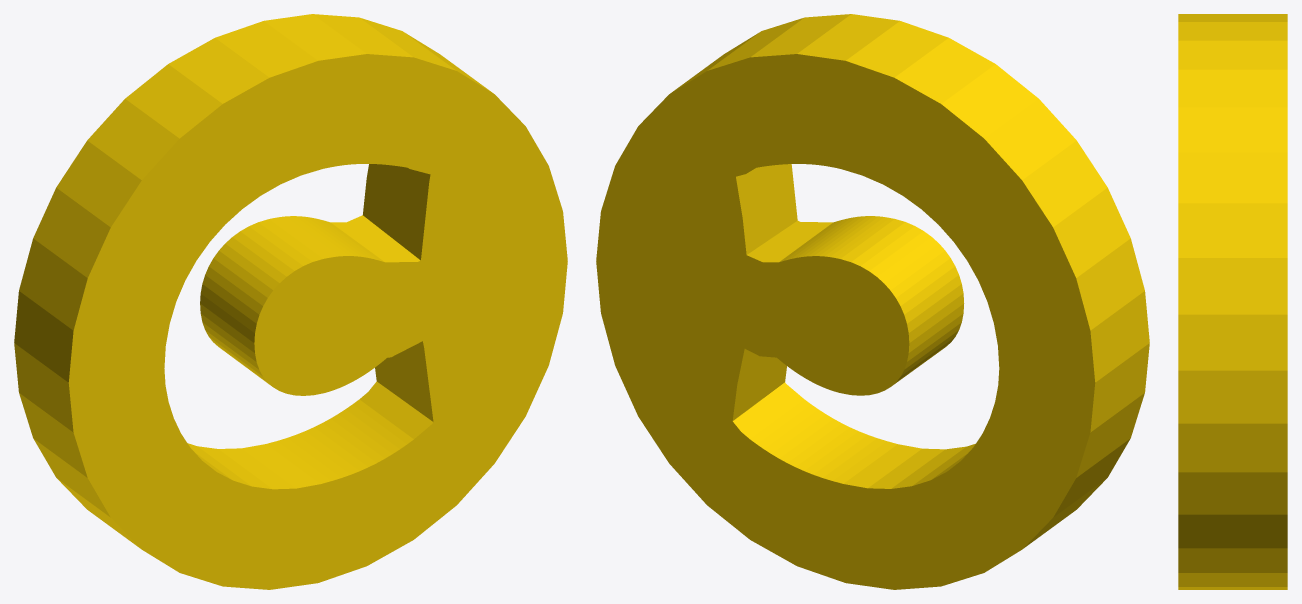
Rendered from coin.glb.
3 views of the same model, side by side, from view 1: azimuth 30°, elevation 25°; view 2: azimuth 150°, elevation 25°; view 3: azimuth 270°, elevation 25° (orthographic).
Parts seen in each view (by area): view 1: Cylinder; view 2: Cylinder; view 3: Cylinder.
Boxes of the visible parts, x1=… form: Cylinder: x1=14, y1=14, x2=567, y2=589; Cylinder: x1=596, y1=14, x2=1149, y2=589; Cylinder: x1=1178, y1=14, x2=1287, y2=589.
Size of the model in its own units: 2 by 2 by 0.3791.
